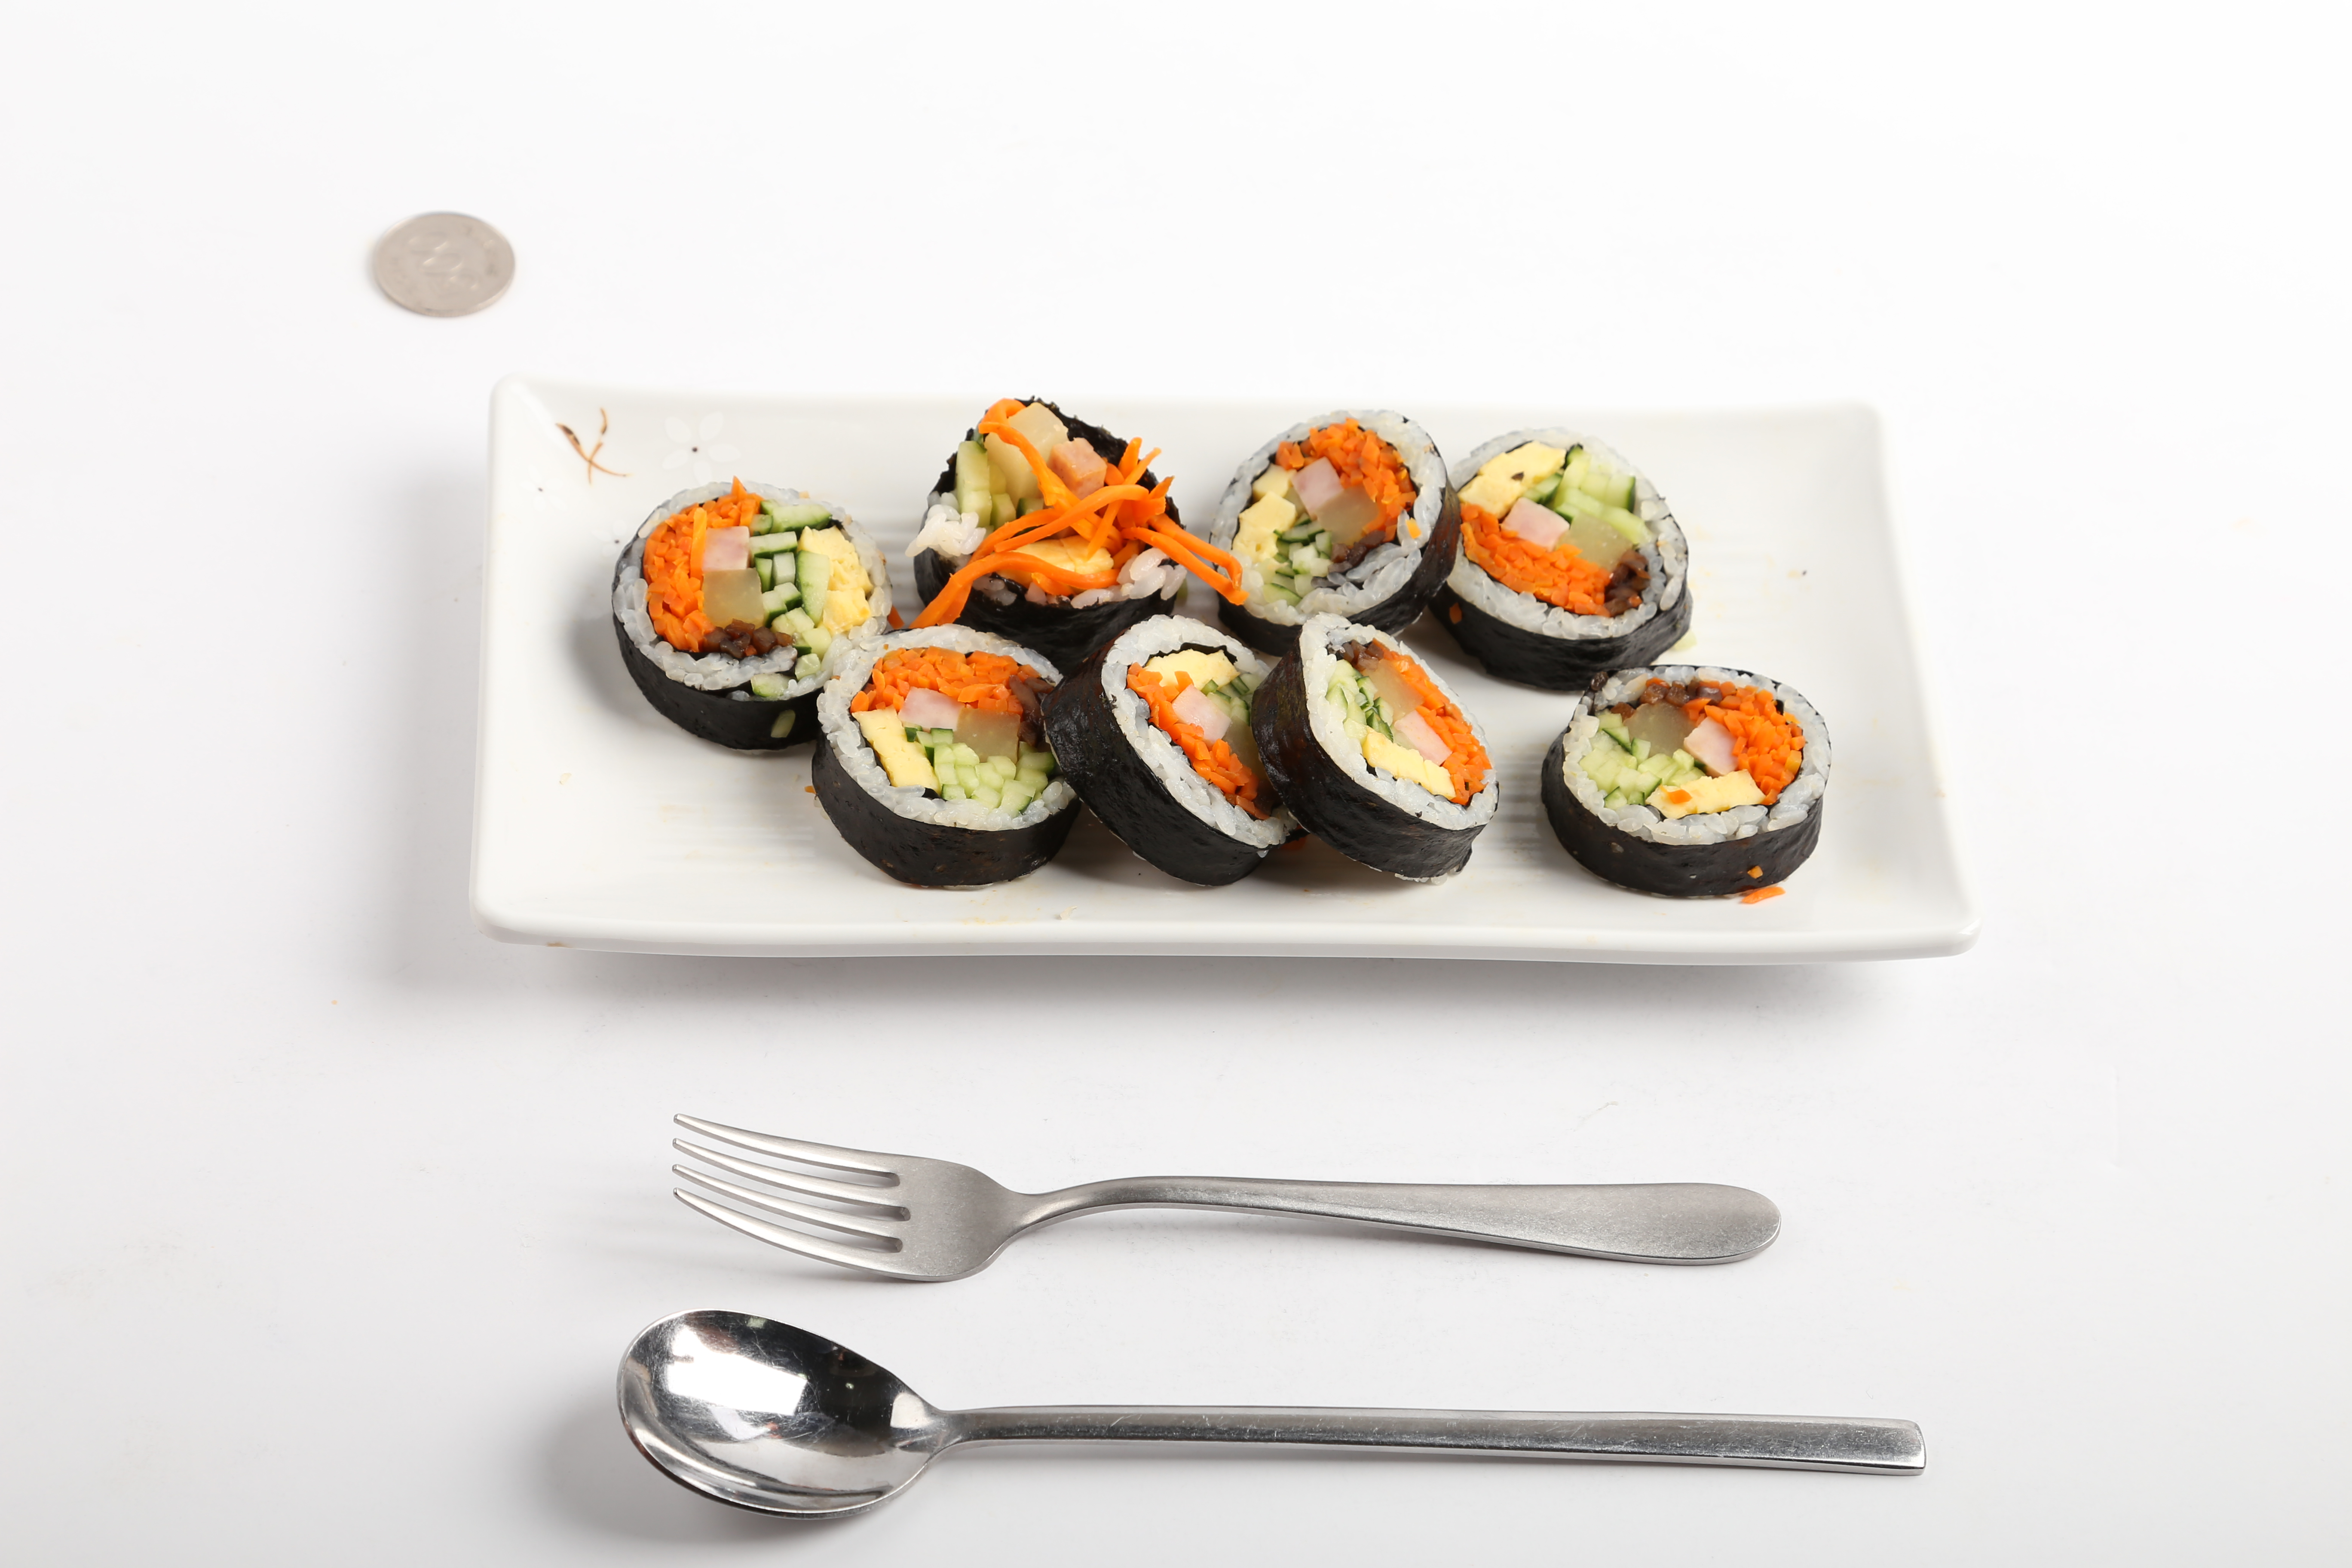dish: (465, 367, 1983, 971)
ref_coin: (366, 199, 518, 322)
ref_fork: (663, 1104, 1090, 1284)
ref_spoon: (611, 1304, 1024, 1526)
김밥: (611, 388, 1841, 894)
